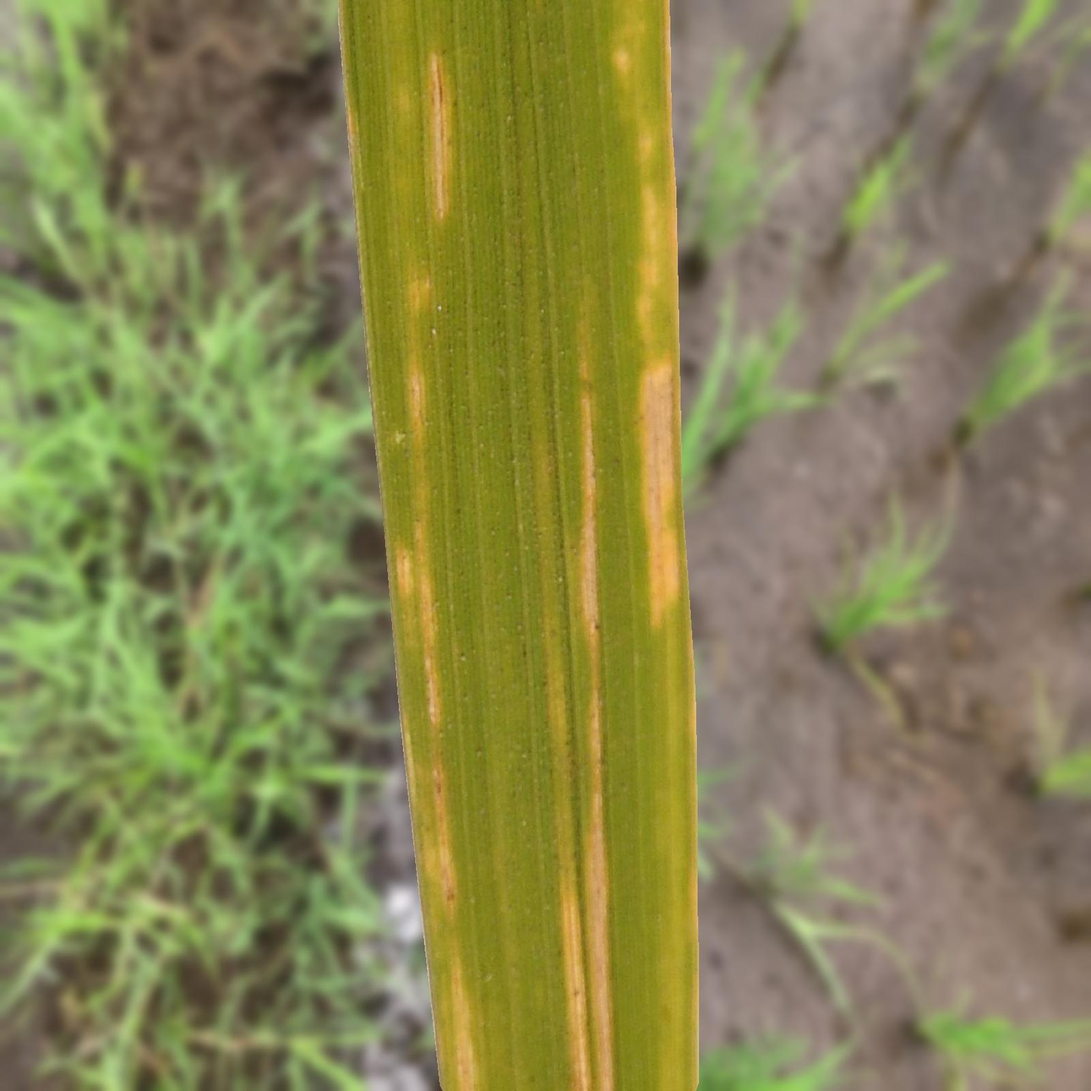BLS: (579, 349, 614, 1090), (640, 356, 680, 627), (403, 271, 438, 577), (412, 722, 456, 921), (560, 868, 590, 1090), (449, 939, 478, 1089), (429, 50, 449, 222), (420, 576, 441, 725)
LEAF: (338, 0, 698, 1090)
